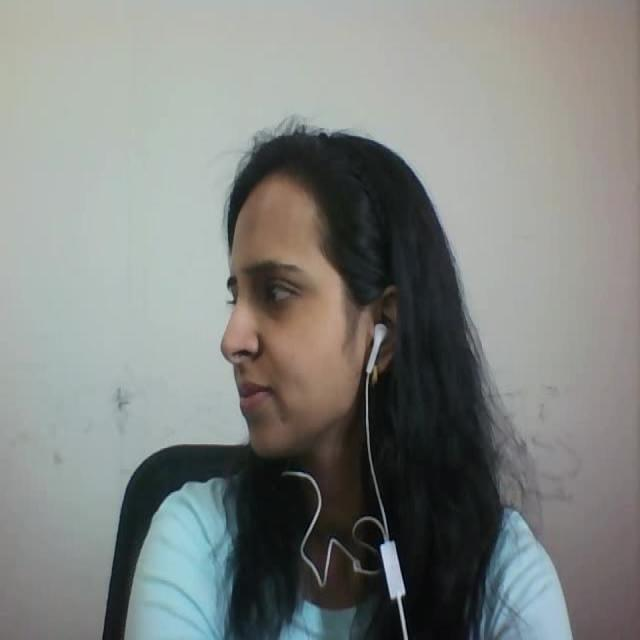Bored: (186, 114, 458, 482)
